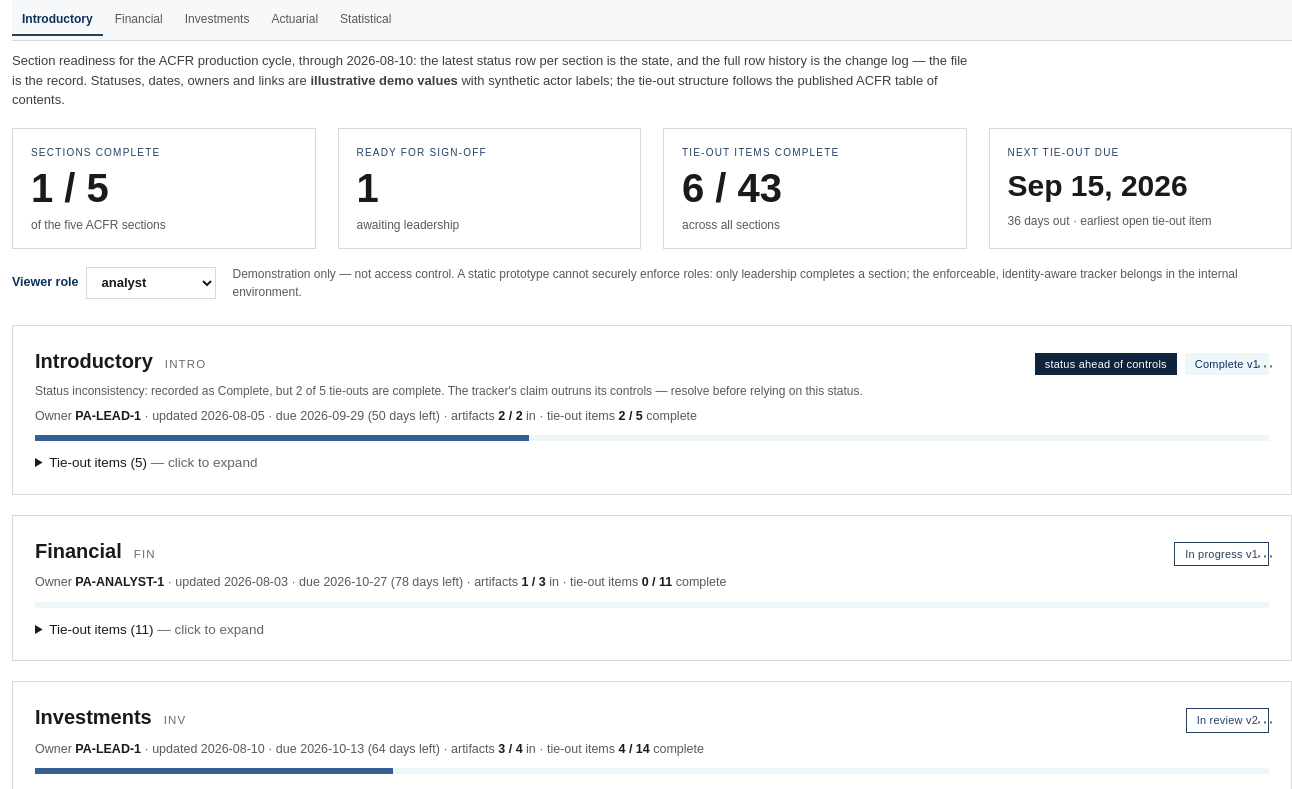
Test: ACFR completion gate (audit finding 2) › leadership sees a disabled action with the open requirements listed
Select "leadership" in the dropdown labelled "Viewer role". click: (152, 282)
box: [86,266,216,298]
(page scrolled)
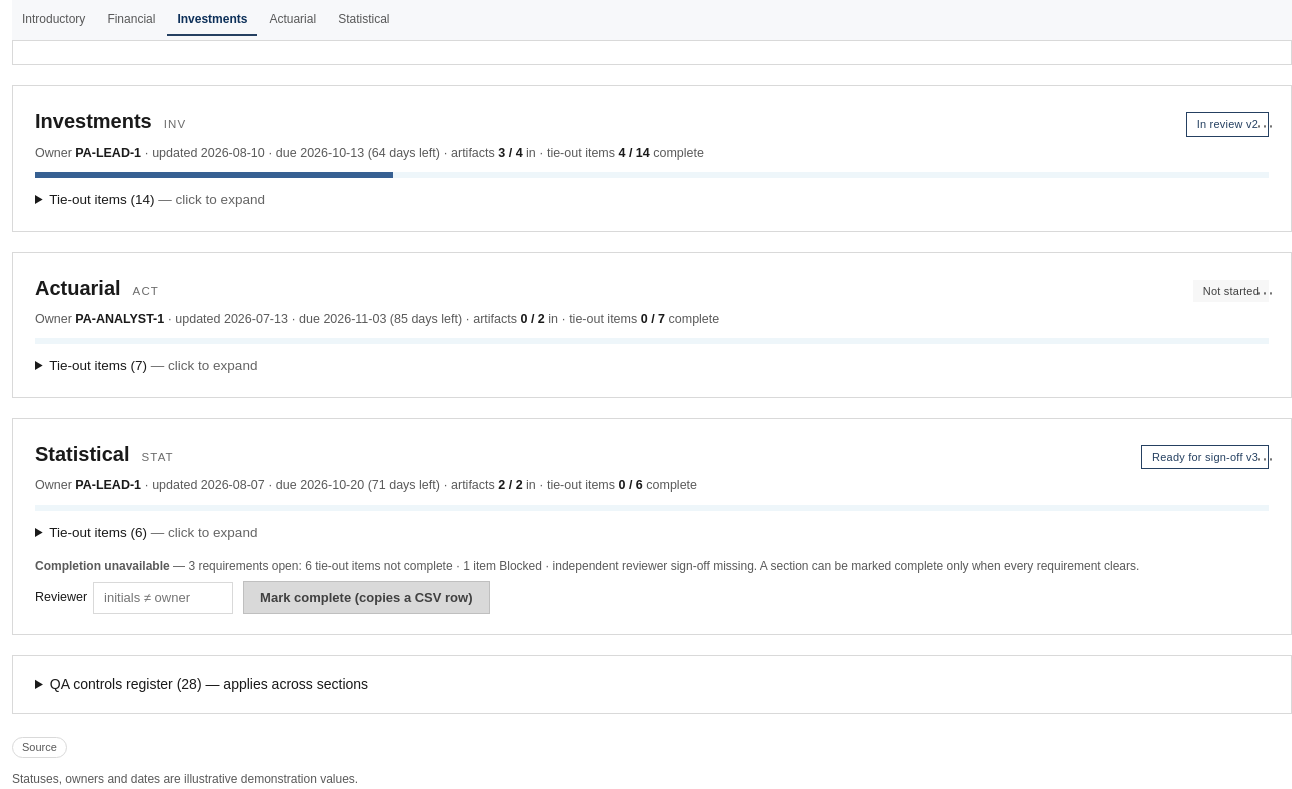
expect the text "Completion unavailable" is shown: met, box [35,559,170,573]
expect the text "item Blocked" is shown: met, box [305,559,754,573]
expect the button "Mark complete (copies a CSV row)" is disabled: met, box [243,581,490,614]
